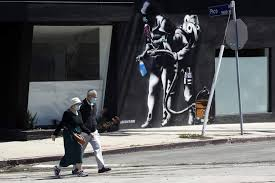mask: (84, 86, 98, 105), (70, 96, 83, 112)
